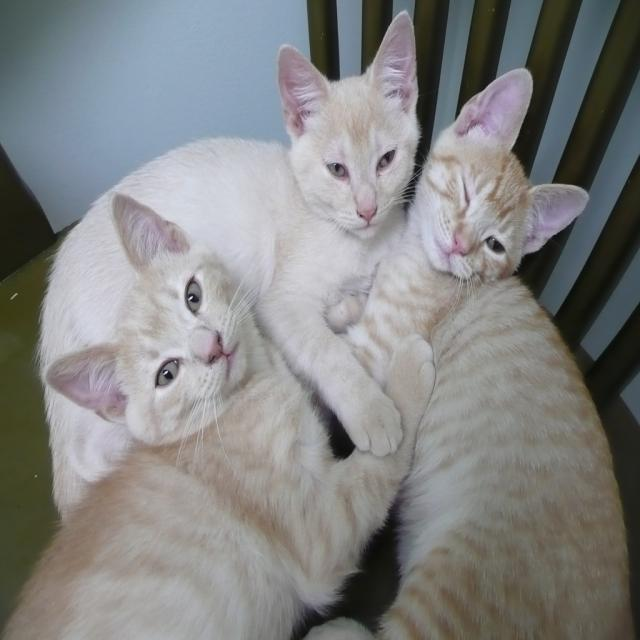Cat: (28, 6, 424, 519), (0, 188, 438, 640), (302, 63, 637, 639)
